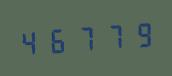four: (18, 24, 44, 58)
nine: (126, 17, 152, 51)
seven: (72, 20, 98, 55), (99, 19, 125, 53)
six: (45, 22, 71, 56)
